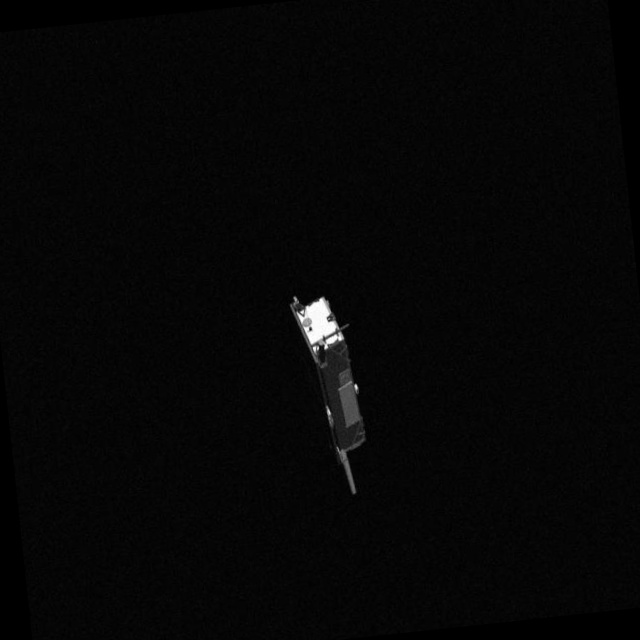satellite: (276, 271, 387, 505)
